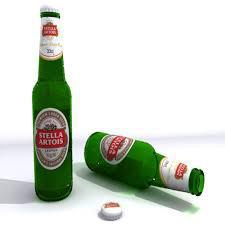beer: (31, 6, 206, 202)
